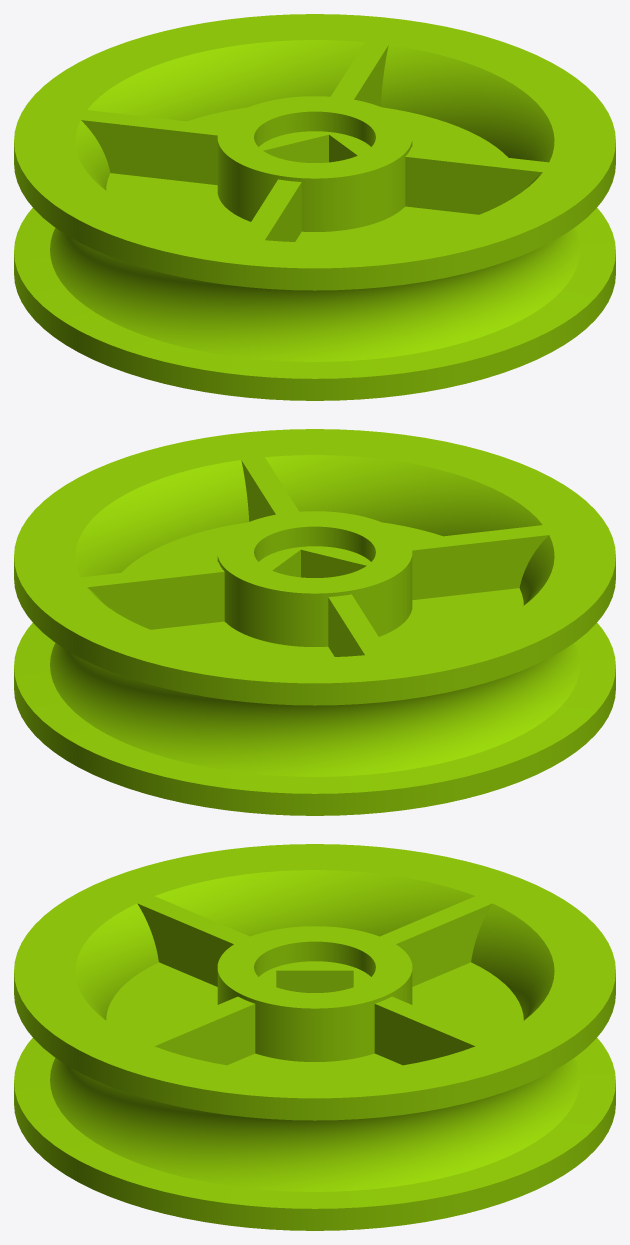
3 views of the same model, one above another, from view 1: azimuth 30°, elevation 25°; view 2: azimuth 150°, elevation 25°; view 3: azimuth 270°, elevation 25° (orthographic).
Visible parts, largest first — view 1: 228-2500-164; view 2: 228-2500-164; view 3: 228-2500-164.
Part boxes in pixels (box(x1,y1,x2,y2)): 228-2500-164: box(14, 14, 615, 400); 228-2500-164: box(14, 429, 615, 815); 228-2500-164: box(14, 844, 615, 1230).
Size of the model in its own units: 0.0247 by 0.00635 by 0.0247.
